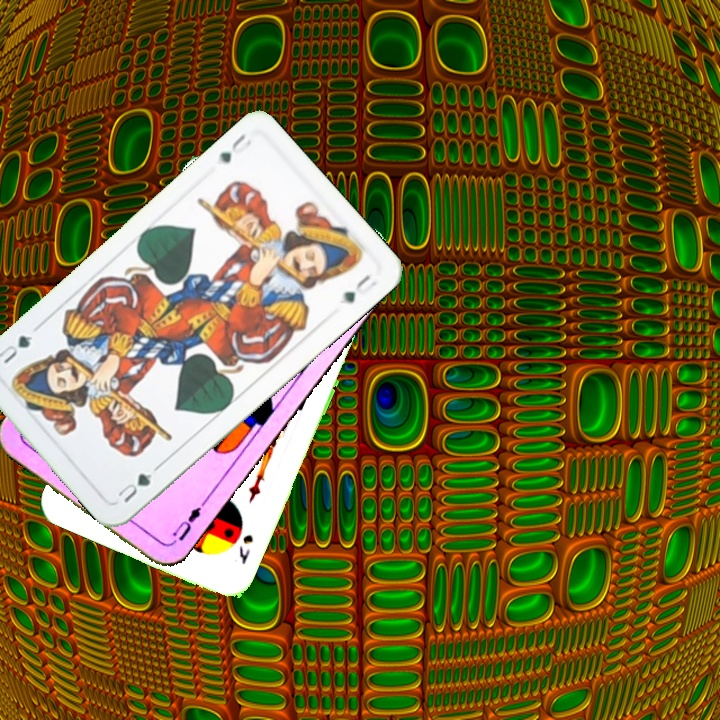EU: (166, 497, 208, 548)
GU: (113, 469, 155, 506), (215, 130, 254, 166)
SK: (234, 530, 256, 567)
